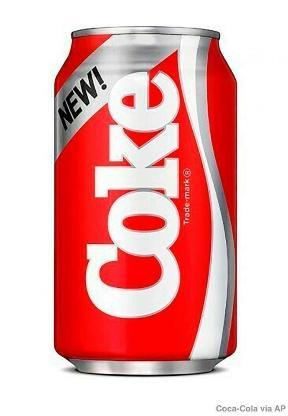Can: (52, 22, 240, 376)
